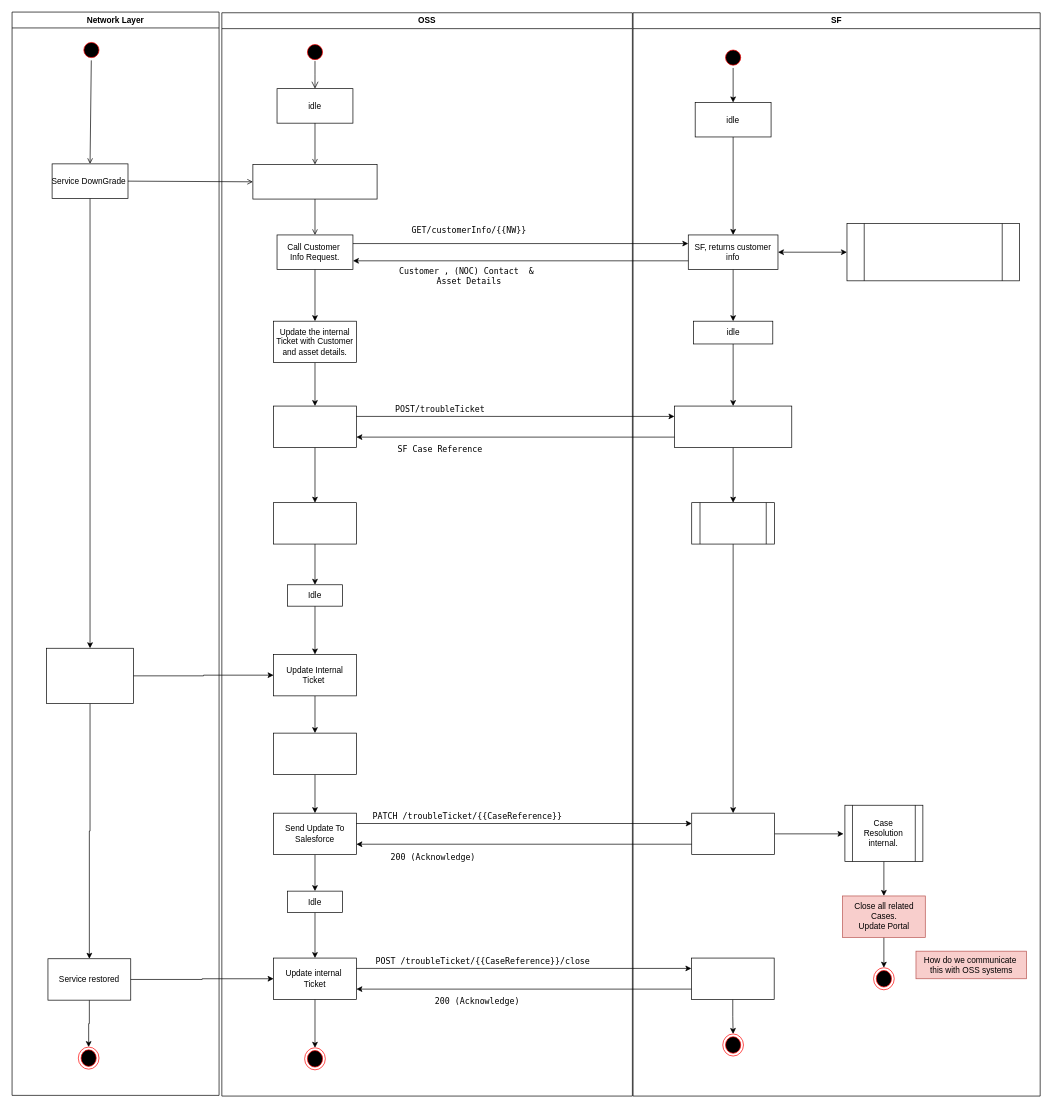
Some shapes in this 1052 by 1108 pixel diagram are drawn without their labels. The shapes that lost their labels are listed below. From the top down, each one's box as (x1, y1, x2, y2) in pixels, then its label:
(252, 164, 377, 199): Create internal Ticket against the Network Element
(846, 223, 1019, 281): Check Network details against asset Get Customer + NOC Contact
(273, 405, 356, 447): Send Crate Ticket Request
(674, 405, 792, 447): Create Case, tied to the (NOC) contact and Customer Details.
(273, 502, 356, 544): Save the SF Case Reference aginst internal Ticket.
(691, 502, 775, 544): Service Management
(46, 648, 134, 703): Info About other customers facing issue because of this incident
(273, 732, 356, 775): Created List of related Ticket with info in internal system.
(691, 812, 775, 855): Update Case + Create related Cases to existing Case.
(691, 957, 774, 999): Close Ticket.
